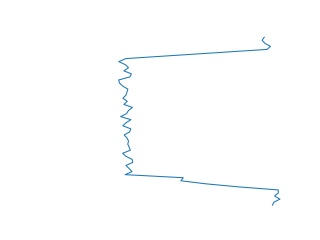distributaryChannelFill: (114, 37, 289, 205)
